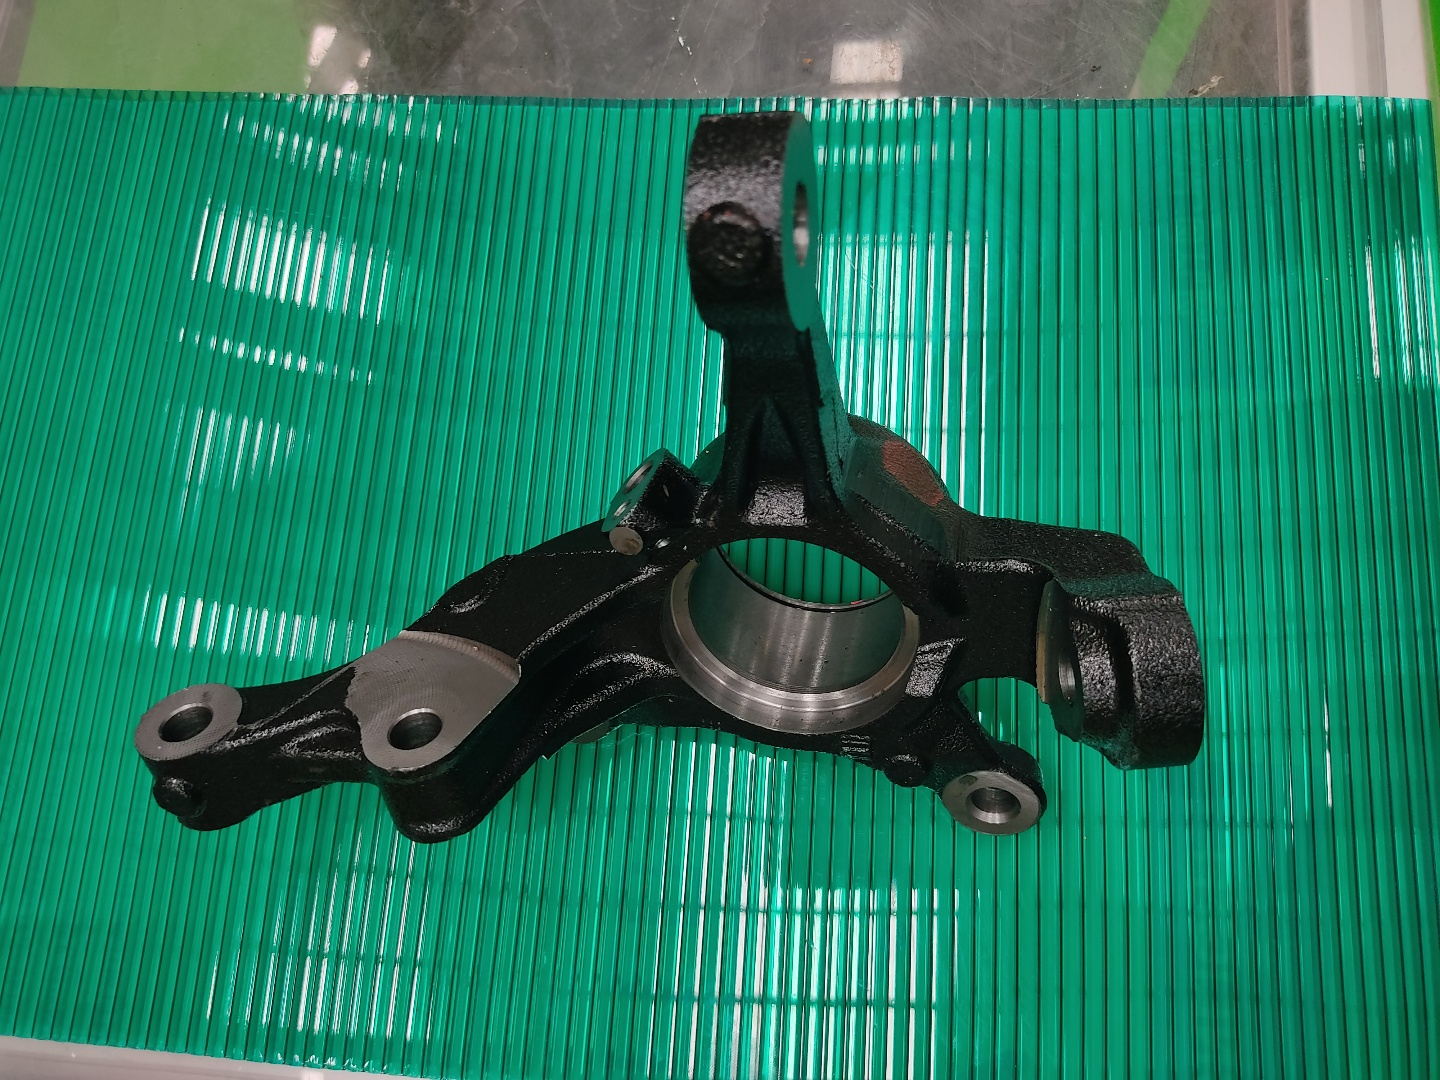abs-rh: (122, 88, 1222, 880)
